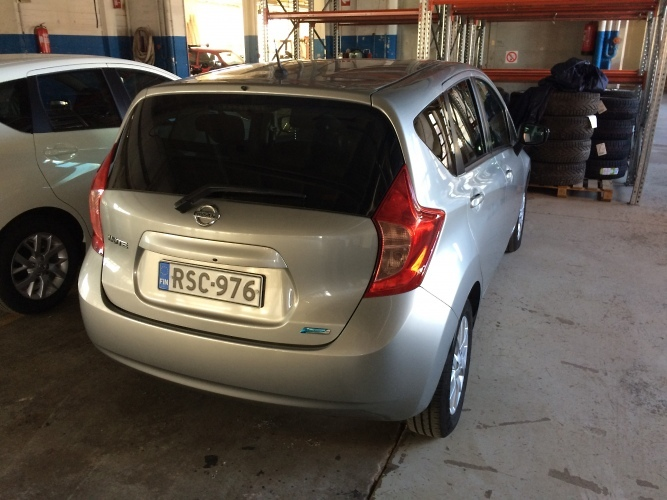license: (154, 258, 265, 313)
